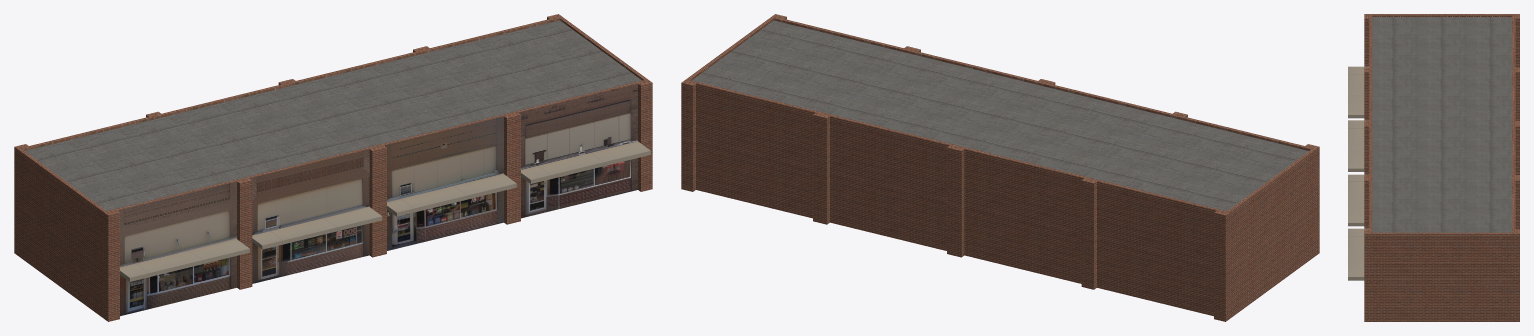
The model's file is Building_06.fbx.
The picture shows the model from 3 angles, left to right: view 1: azimuth 30°, elevation 25°; view 2: azimuth 150°, elevation 25°; view 3: azimuth 270°, elevation 25°; orthographic projection. The views are drawn at different scales.
Visible parts, largest first — view 1: Building_06; view 2: Building_06; view 3: Building_06.
Part boxes in pixels (left/top/right/bottom): Building_06: left=14, top=14, right=652, bottom=321; Building_06: left=681, top=14, right=1319, bottom=321; Building_06: left=1348, top=14, right=1519, bottom=321.
Bounding box in the file's own units: 3237 × 605 × 1070.
